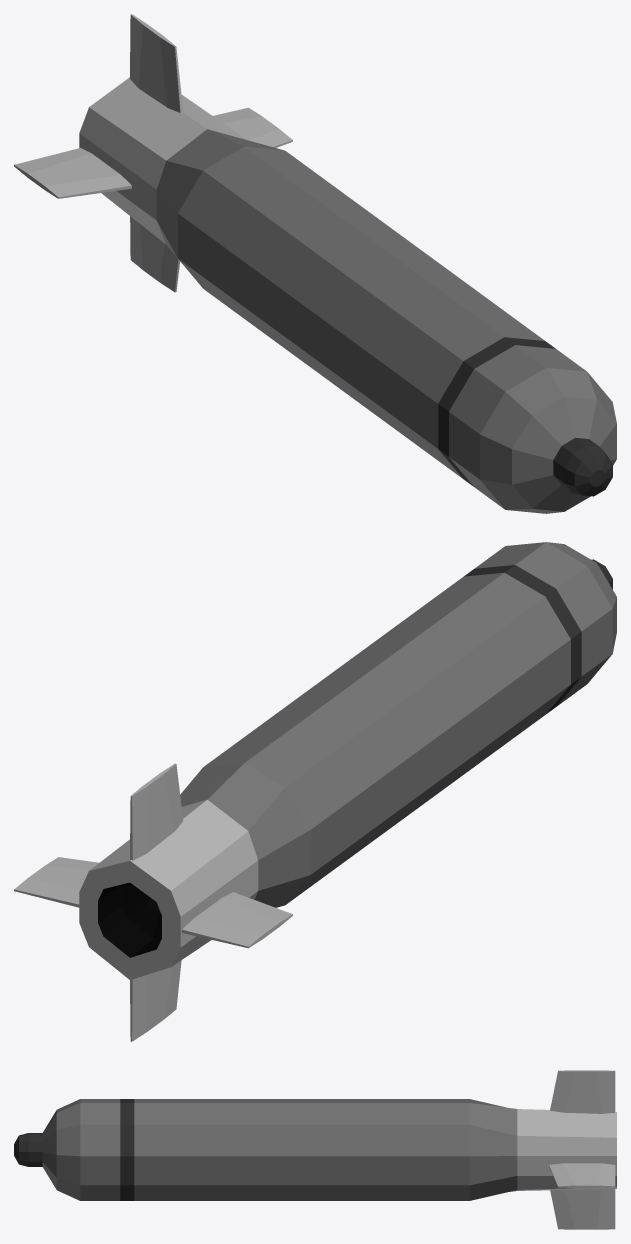
The model's file is SM_missile03.fbx.
The picture shows the model from 3 angles, top to bottom: view 1: azimuth 30°, elevation 25°; view 2: azimuth 150°, elevation 25°; view 3: azimuth 270°, elevation 25°; orthographic projection. The views are drawn at different scales.
Visible parts, largest first — view 1: Cylinder; view 2: Cylinder; view 3: Cylinder.
Part boxes in pixels (bbox=[...]): Cylinder: bbox=[14, 14, 616, 513]; Cylinder: bbox=[14, 542, 616, 1041]; Cylinder: bbox=[14, 1070, 616, 1229].
Bounding box in the file's own units: 67.61 × 67.61 × 233.
